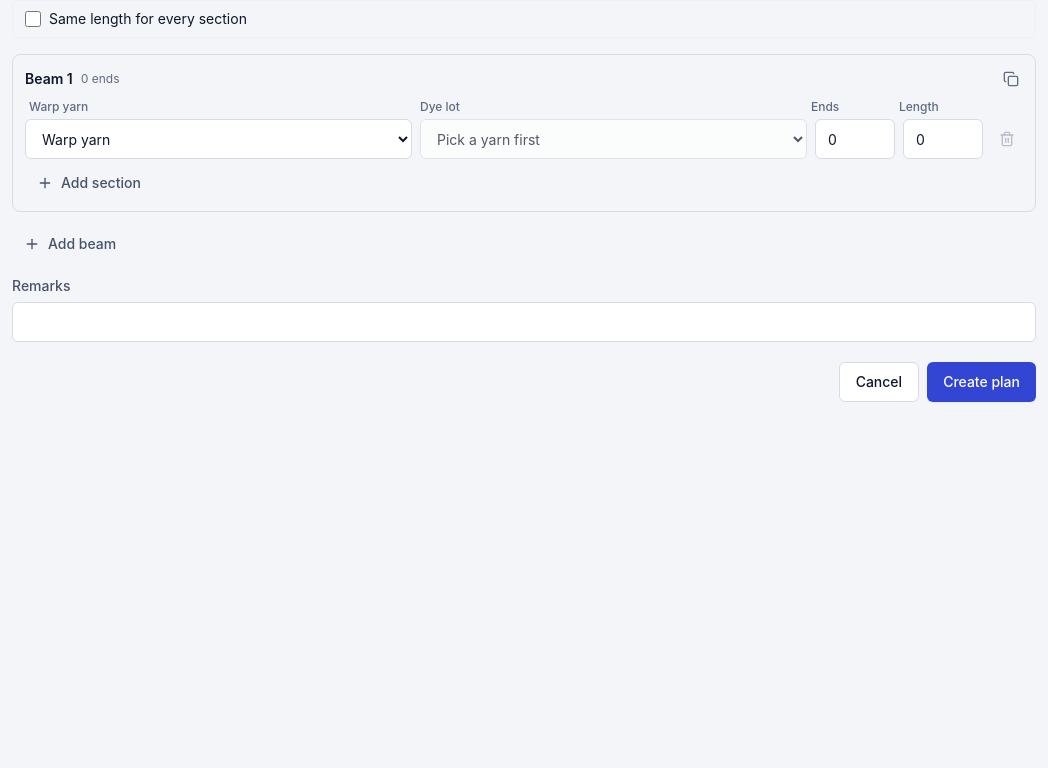
WarpingPlanForm — combining beams › offers combining only once there is more than one beam
Expected: the button "combine beams" is not shown
Click the button "Add beam" at coordinates (70, 244), box [12,228,128,260]
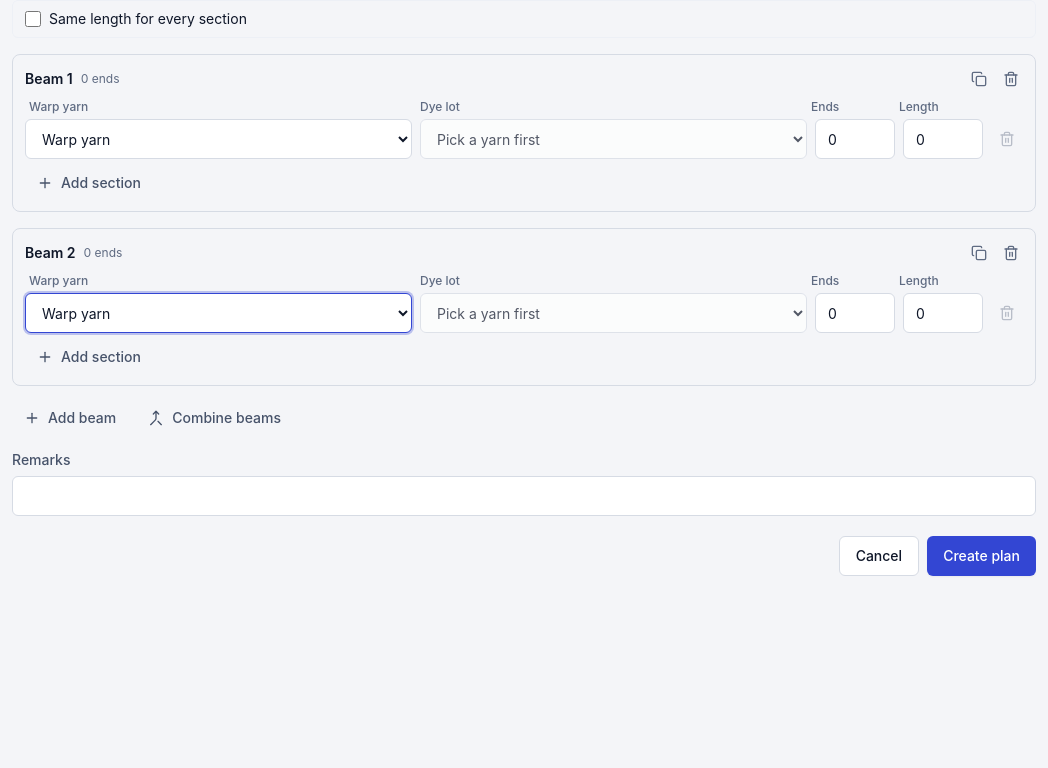
Expected: the button "Combine beams" is shown, [136,402,293,434]
